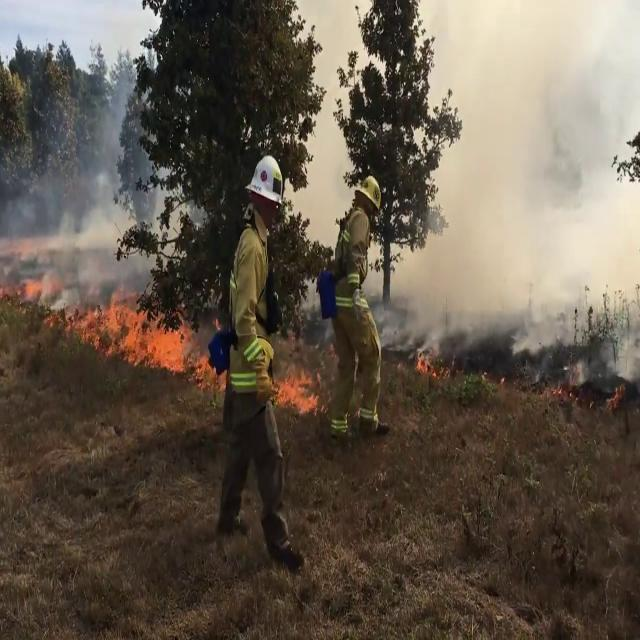Fire: (66, 288, 208, 372), (277, 332, 322, 430), (607, 378, 626, 408)
Smoke: (392, 0, 638, 356), (1, 70, 148, 298)
